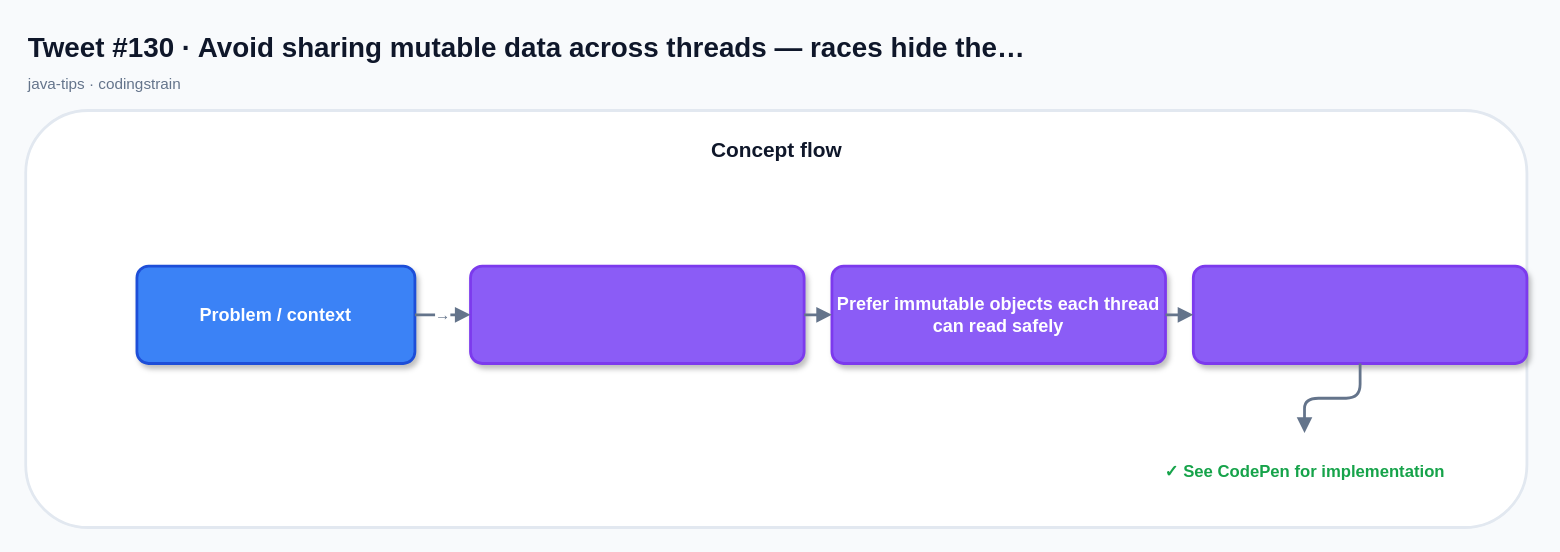
Some shapes in this 1560 by 552 pixel diagram are drawn without their labels. Each missing label, with the centre of its shape:
"Or pass messages (queues) instead of editing the same fields" belongs at (1361,316).
"💡 Avoid sharing mutable data across threads — races hide there." belongs at (638,316).
